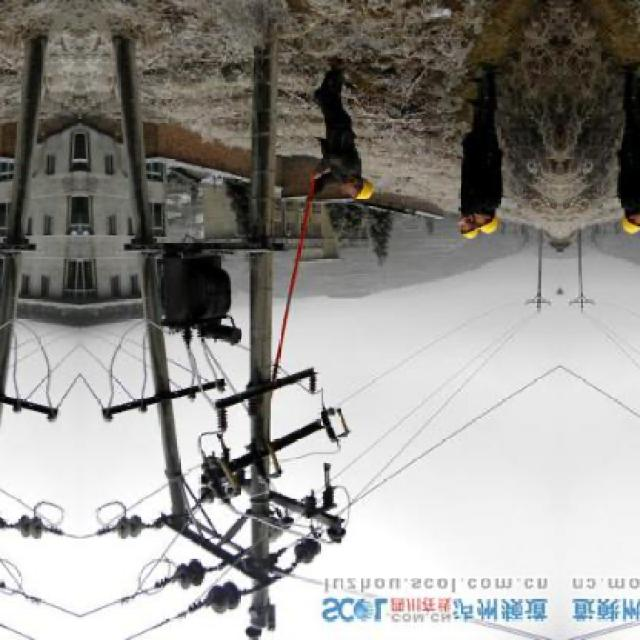con casco: (329, 158, 380, 220), (478, 203, 507, 239)
